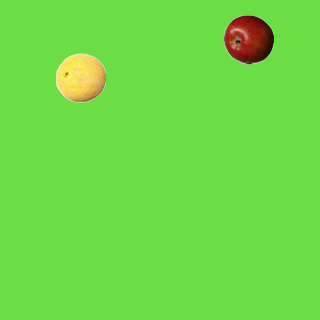Apple Braeburn: (223, 14, 273, 64)
Cantaloupe 1: (55, 52, 105, 102)
